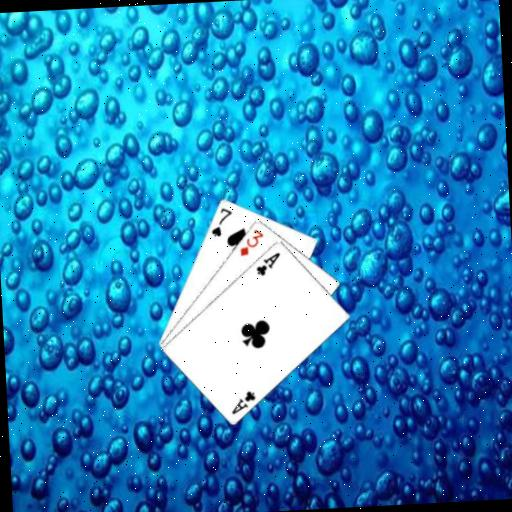3D: (236, 225, 266, 258)
7S: (207, 204, 234, 239)
AC: (253, 250, 283, 278), (228, 388, 258, 416)
